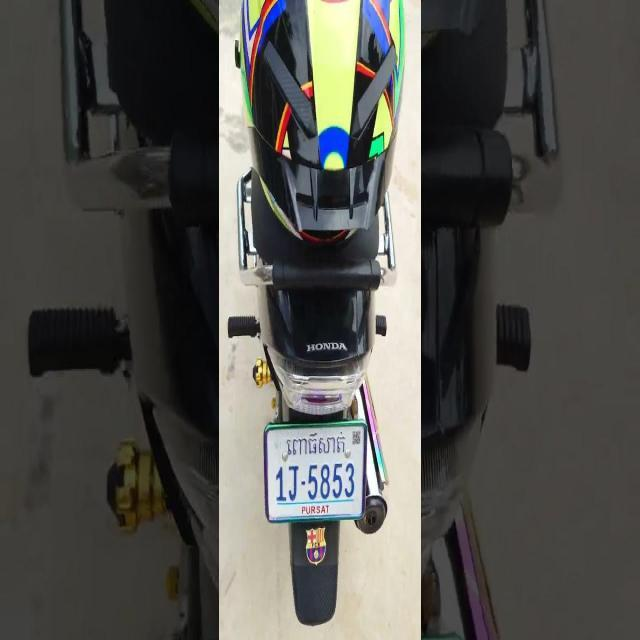Pursat: (285, 430, 348, 462)
